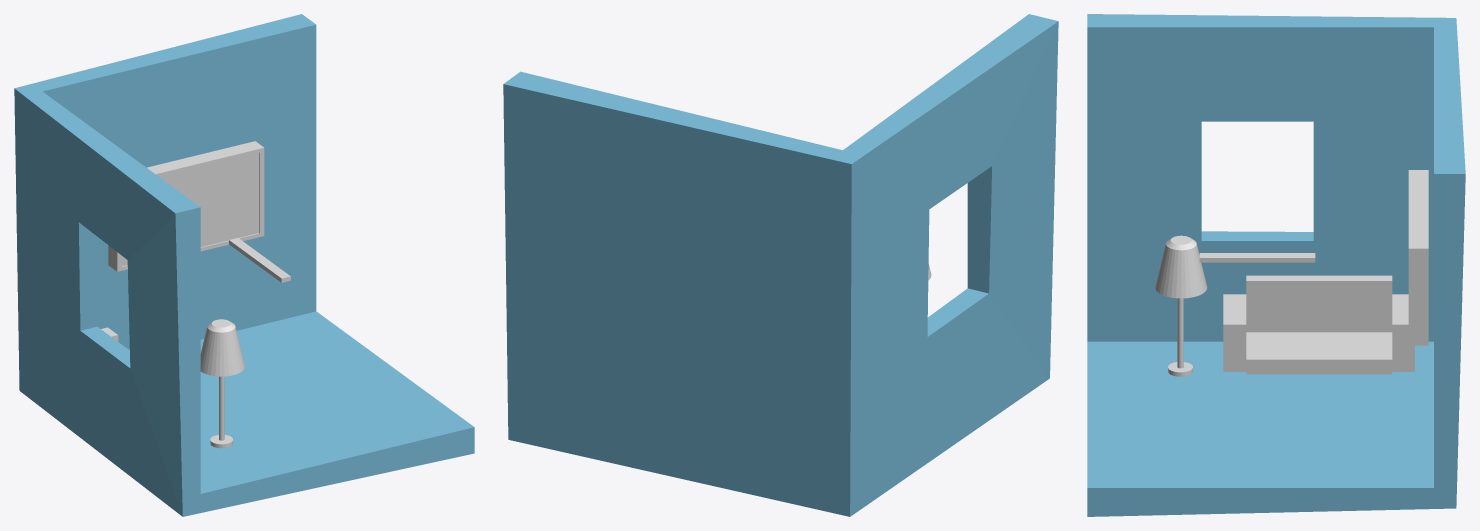
Rendered from room.glb.
3 renders of one model, left to right at view 1: azimuth 30°, elevation 25°; view 2: azimuth 150°, elevation 25°; view 3: azimuth 270°, elevation 25°, orthographic. The views are drawn at different scales.
Parts seen in each view (by area): view 1: Cube, Куб.001, Цилиндр.001, Куб.002, Цилиндр; view 2: Cube; view 3: Cube, Куб, Куб.001, Цилиндр.001, Куб.002, Цилиндр.
Part boxes in pixels (bbox=[...]): Cube: bbox=[14, 14, 474, 516]; Куб.001: bbox=[108, 141, 264, 271]; Цилиндр.001: bbox=[200, 319, 244, 376]; Куб.002: bbox=[229, 238, 290, 282]; Цилиндр: bbox=[210, 376, 232, 448]; Cube: bbox=[503, 14, 1058, 516]; Cube: bbox=[1087, 14, 1465, 516]; Куб: bbox=[1223, 275, 1414, 374]; Куб.001: bbox=[1408, 170, 1428, 345]; Цилиндр.001: bbox=[1155, 235, 1207, 298]; Куб.002: bbox=[1199, 253, 1315, 262]; Цилиндр: bbox=[1168, 298, 1192, 376].
Bounding box in the file's own units: 2.18 × 2.18 × 2.18.
